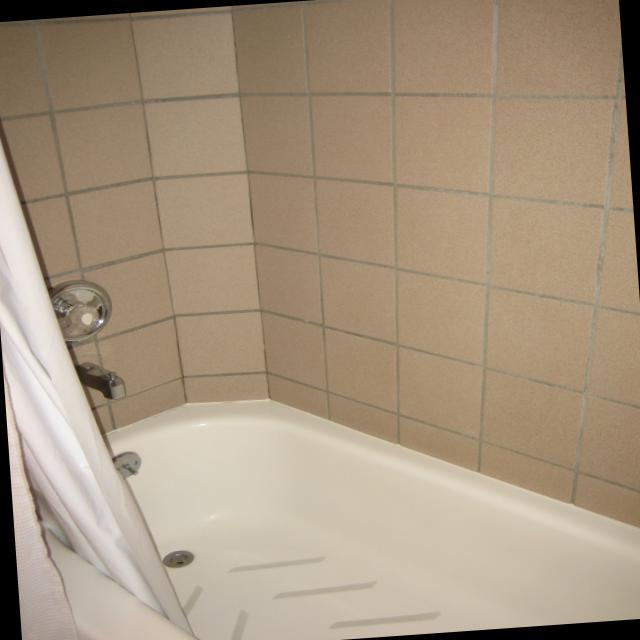bathtube: (104, 400, 640, 640)
drain: (164, 550, 195, 568)
wall clock: (0, 0, 640, 530)
